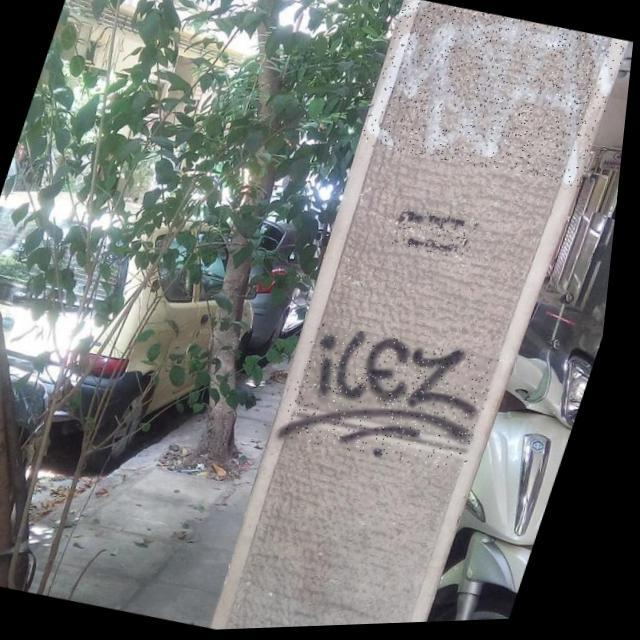-: (357, 0, 634, 199), (285, 320, 512, 482), (392, 205, 489, 266)
